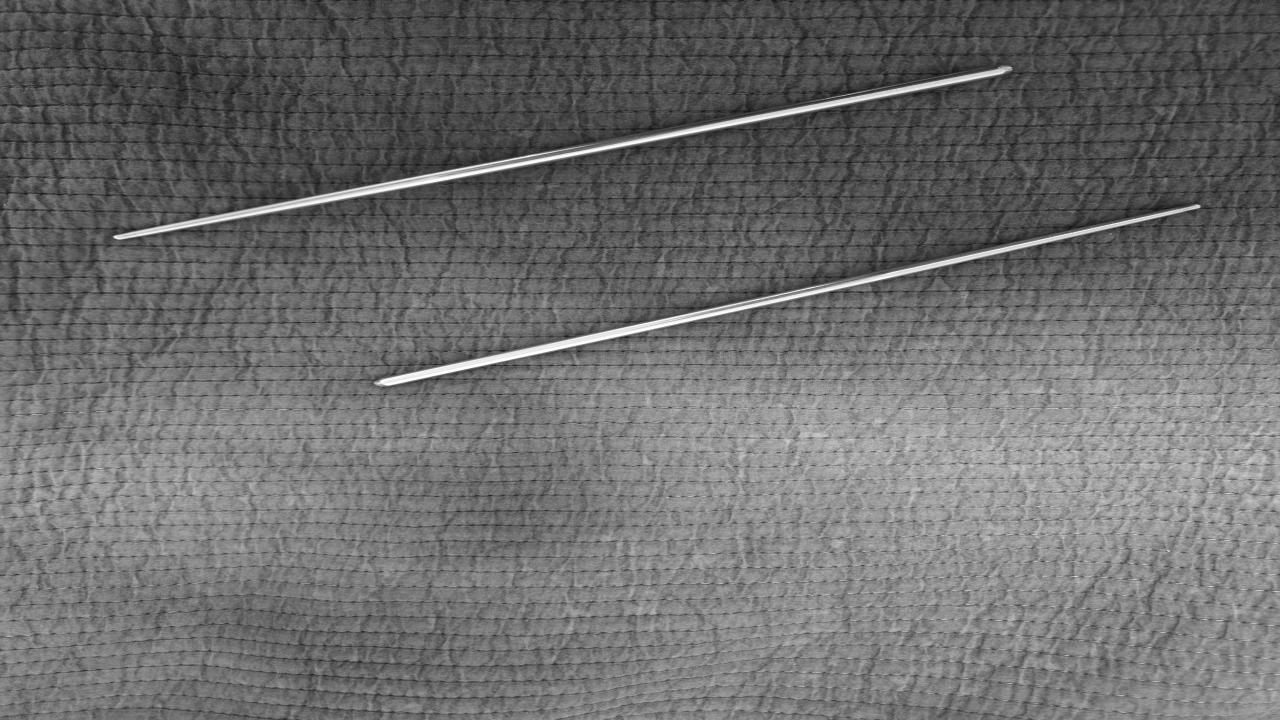chopstick: (103, 62, 1022, 242), (362, 198, 1211, 391)
